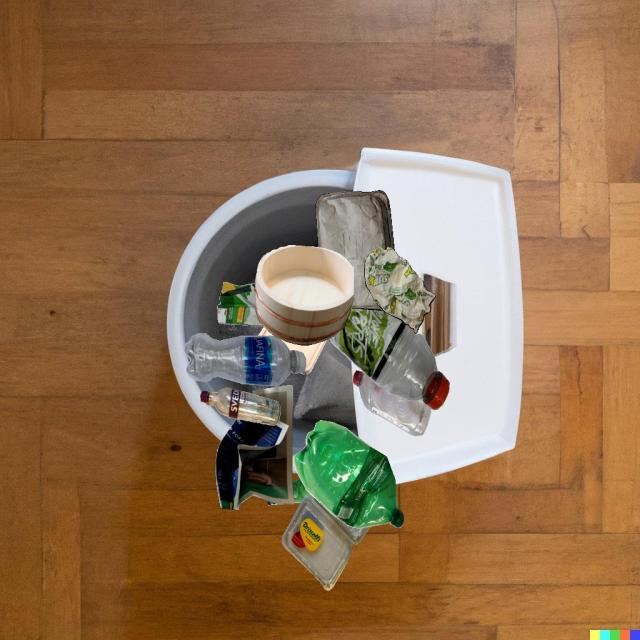cardboard: (217, 282, 264, 327)
combustible waste: (255, 245, 354, 346), (280, 339, 327, 374)
glass: (200, 388, 280, 425), (292, 477, 309, 503)
metal: (316, 190, 394, 311)
paper: (216, 385, 294, 510), (365, 247, 435, 333)
plastic: (329, 309, 449, 410), (294, 420, 404, 529), (282, 493, 371, 591), (184, 333, 306, 386), (353, 370, 431, 436)
